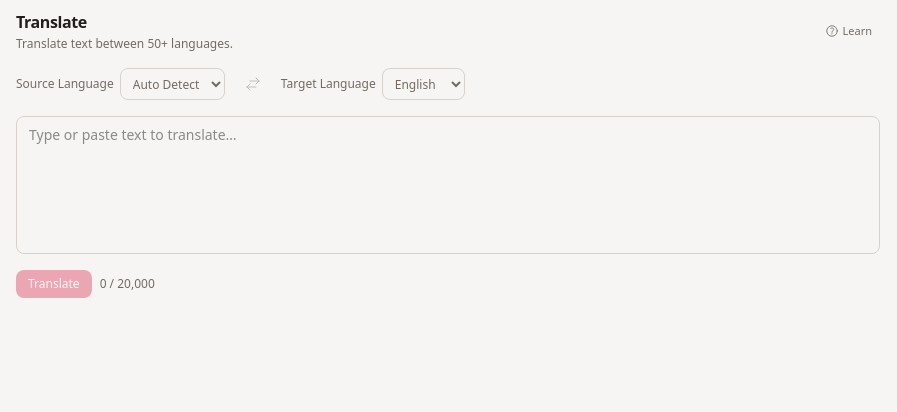
TranslateView › translates and shows output with detected language
Type "Hello" into the text box with placeholder "Type or paste text to translate…". click: (448, 185)
box: [16, 116, 880, 254]
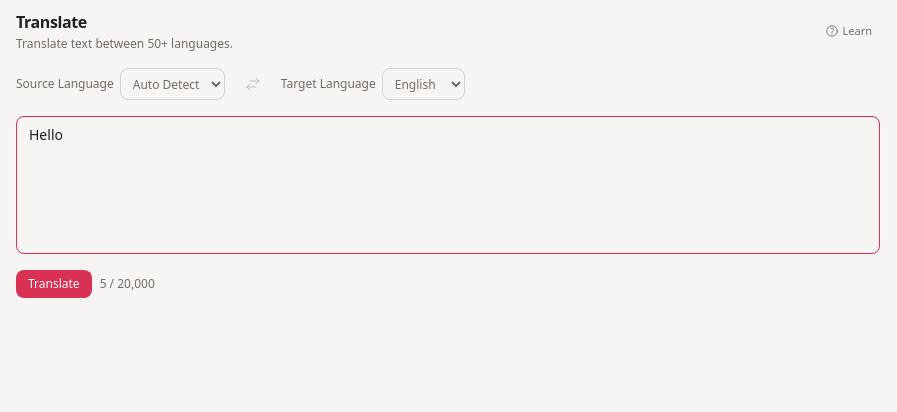
Click the button "Translate". click: (54, 284)
box: [16, 270, 92, 298]
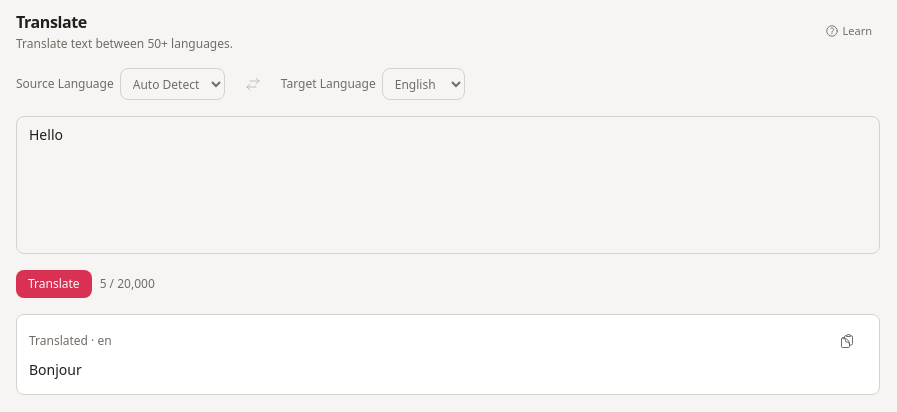
Now the text "Bonjour" is shown, box [29, 360, 82, 379]
Now the text "Translated · en" is shown, box [29, 333, 112, 349]
